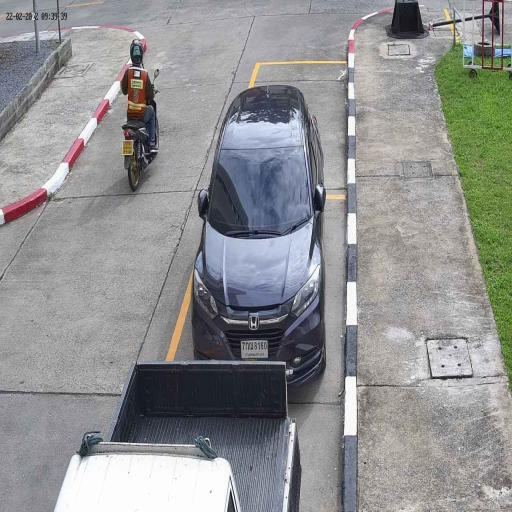car: (190, 83, 327, 393), (53, 360, 303, 512)
motorcycle: (120, 116, 161, 190)
